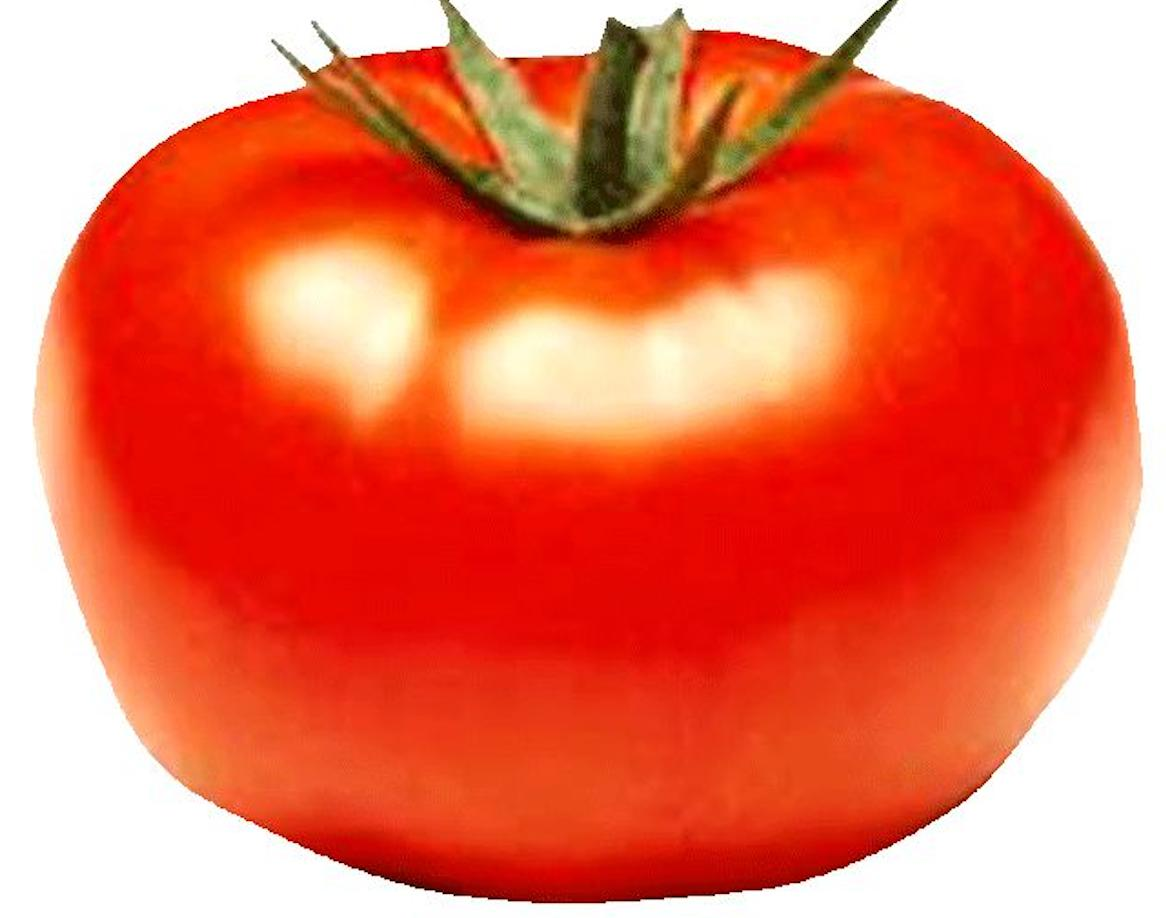tomato: (43, 23, 1127, 906)
